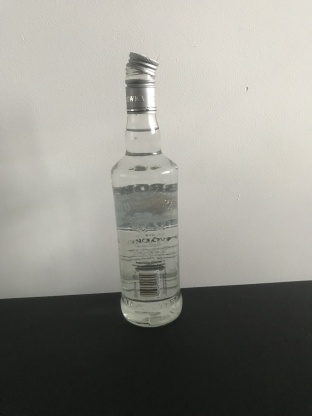nakretka: (123, 49, 160, 114)
